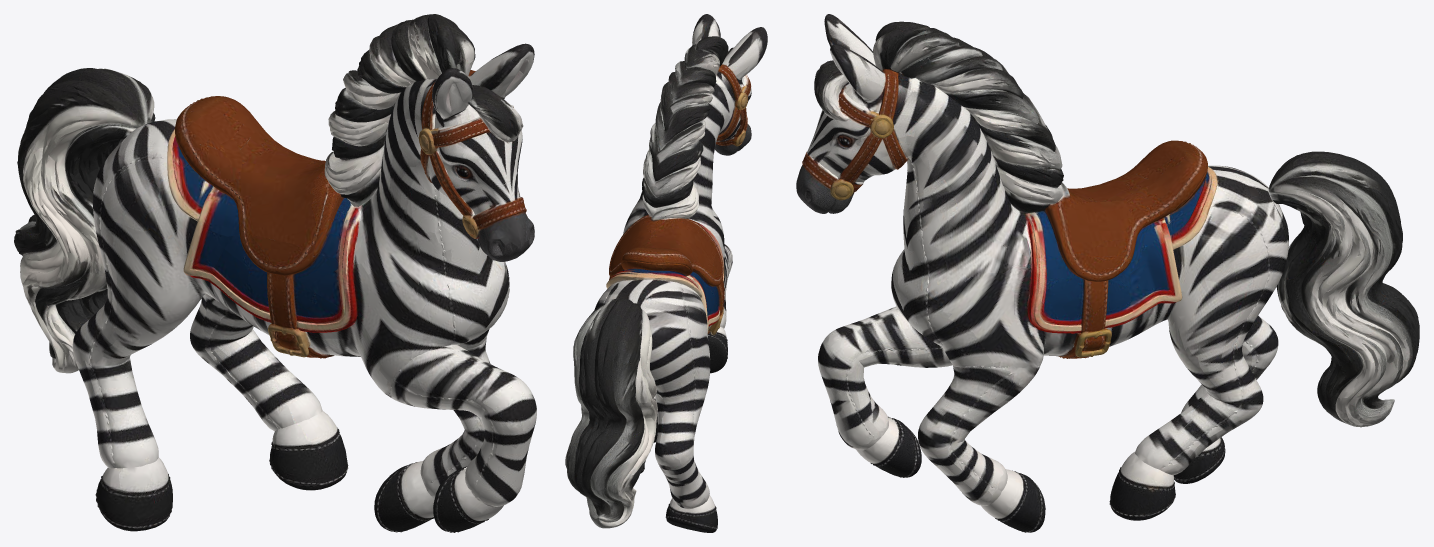
The model's file is zebra.glb.
3 renders of one model, left to right at view 1: azimuth 30°, elevation 25°; view 2: azimuth 150°, elevation 25°; view 3: azimuth 270°, elevation 25°, orthographic. The views are drawn at different scales.
Size of the model in its own units: 0.8321 by 1.73 by 1.9.
1 material, 1 textured.
